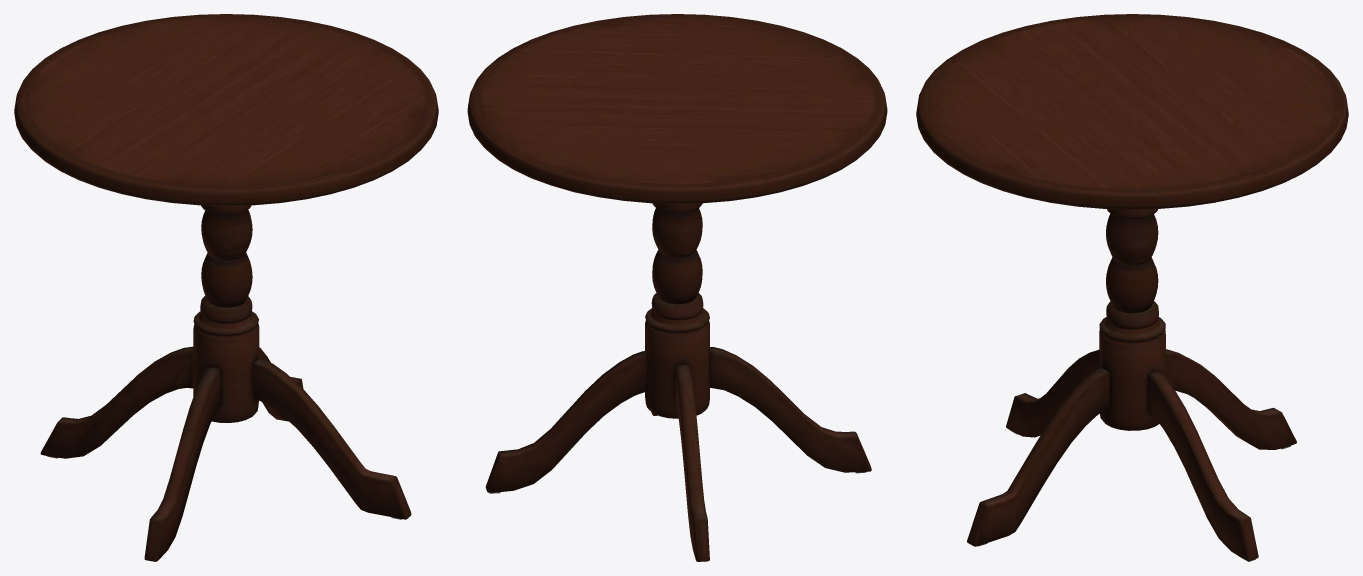
File: ph-round-wooden-table-01.glb
The picture shows the model from 3 angles, left to right: view 1: azimuth 30°, elevation 25°; view 2: azimuth 150°, elevation 25°; view 3: azimuth 270°, elevation 25°; orthographic projection. The views are drawn at different scales.
Visible parts, largest first — view 1: round_wooden_table_01; view 2: round_wooden_table_01; view 3: round_wooden_table_01.
Part boxes in pixels (x1,y1,x2,y2): round_wooden_table_01: (14,14,438,561); round_wooden_table_01: (467,14,887,561); round_wooden_table_01: (916,14,1348,561).
Bounding box in the file's own units: 1 × 1 × 1.
1 material, 1 textured.
